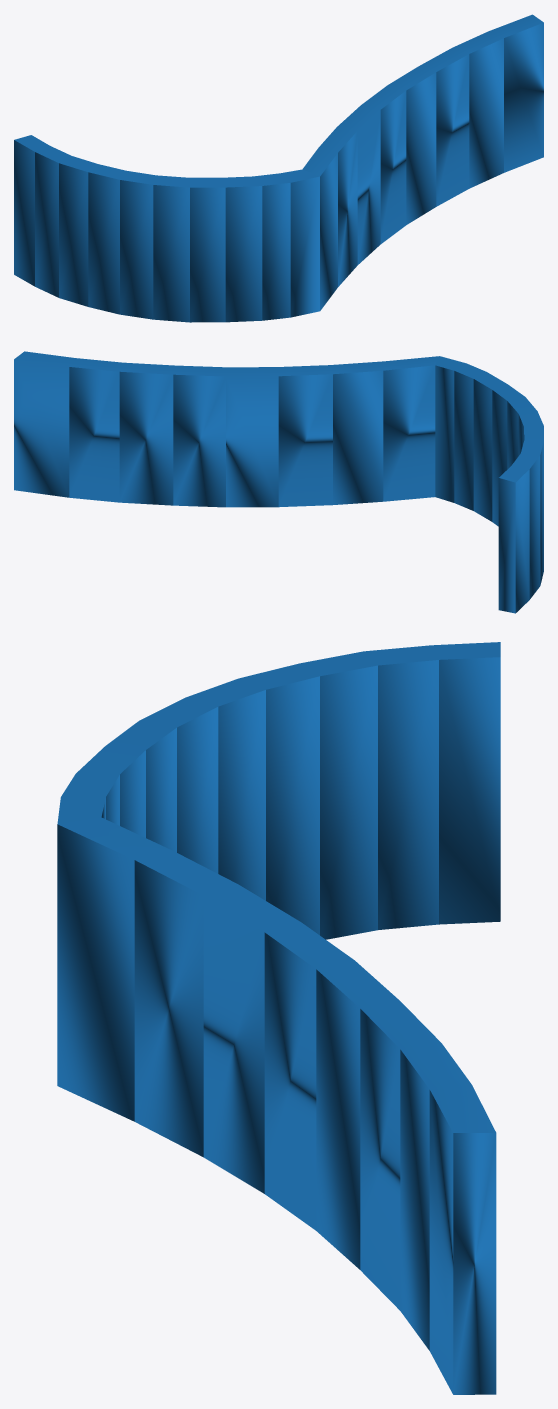
File: Exit_Turn_Metal_01.fbx
The picture shows the model from 3 angles, top to bottom: view 1: azimuth 30°, elevation 25°; view 2: azimuth 150°, elevation 25°; view 3: azimuth 270°, elevation 25°; orthographic projection. The views are drawn at different scales.
Parts seen in each view (by area): view 1: Exit_Turn_Metal_01; view 2: Exit_Turn_Metal_01; view 3: Exit_Turn_Metal_01.
Boxes of the visible parts, box(x1,y1,x2,y2) form: Exit_Turn_Metal_01: box(14, 14, 543, 322); Exit_Turn_Metal_01: box(14, 351, 543, 613); Exit_Turn_Metal_01: box(57, 642, 500, 1394).
Bounding box in the file's own units: 11.67 × 2.93 × 4.45.
